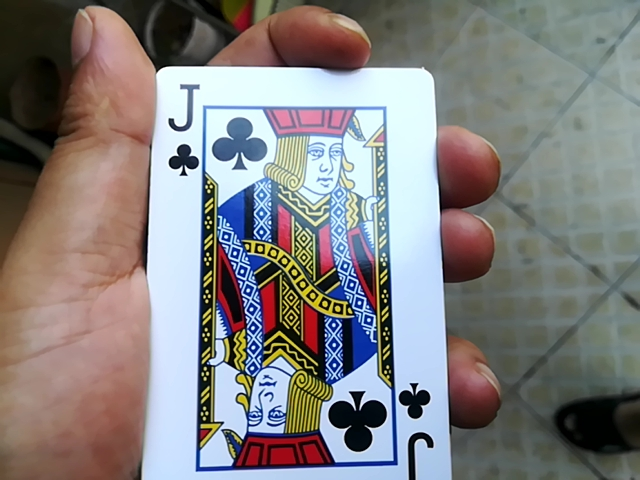mh j: (143, 60, 439, 478)
